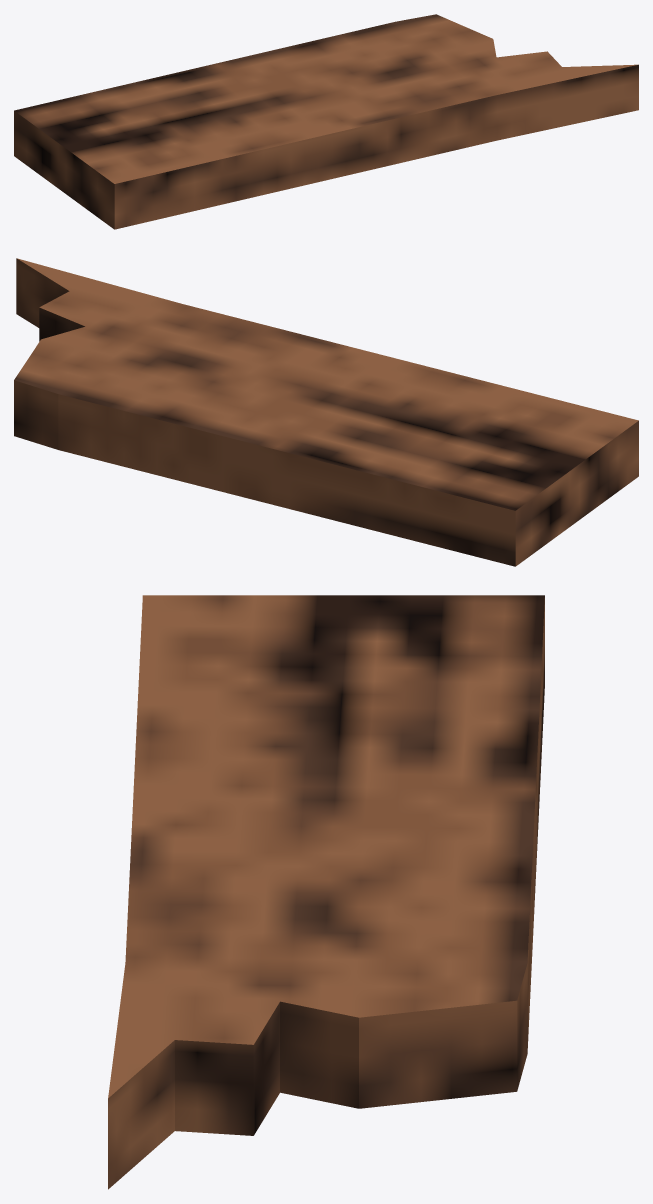
The model's file is MESH_DEBRI_Wood1.fbx.
The picture shows the model from 3 angles, top to bottom: view 1: azimuth 30°, elevation 25°; view 2: azimuth 150°, elevation 25°; view 3: azimuth 270°, elevation 25°; orthographic projection. The views are drawn at different scales.
Parts seen in each view (by area): view 1: MESH_DEBRI_Wood1; view 2: MESH_DEBRI_Wood1; view 3: MESH_DEBRI_Wood1.
Boxes of the visible parts, x1,y1,x2,y2 form: MESH_DEBRI_Wood1: [14, 14, 638, 229]; MESH_DEBRI_Wood1: [14, 258, 638, 566]; MESH_DEBRI_Wood1: [108, 595, 544, 1189].
Size of the model in its own units: 1.18 by 0.1 by 0.4346.
